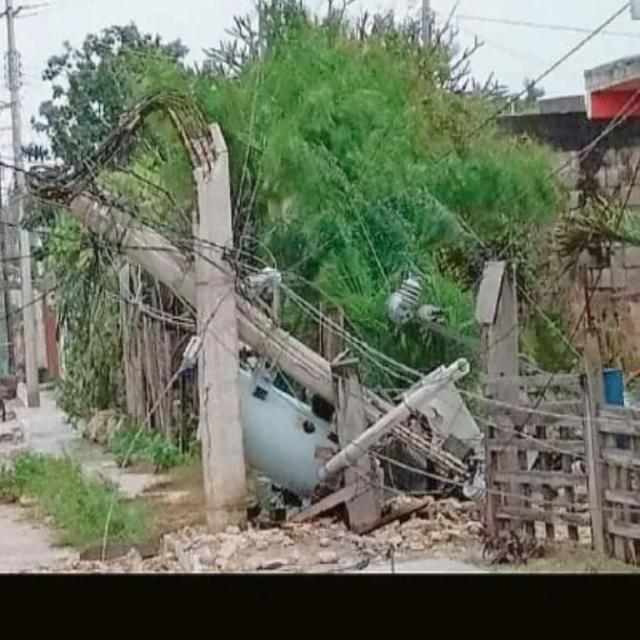Inclined Pole: (52, 103, 488, 532)
